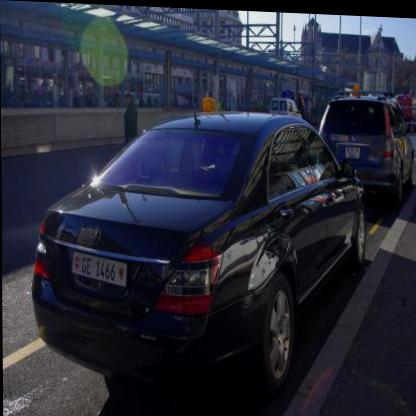License_Plate: (72, 251, 127, 288), (345, 145, 361, 160)
